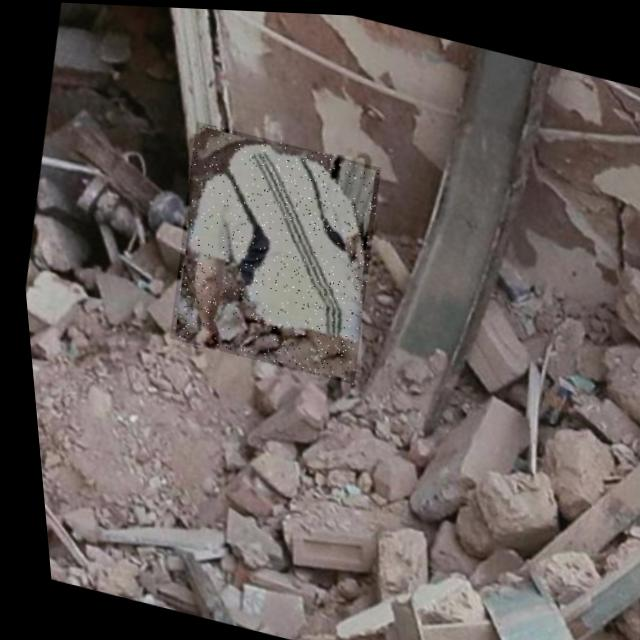Person in Rubble: (147, 117, 393, 383)
